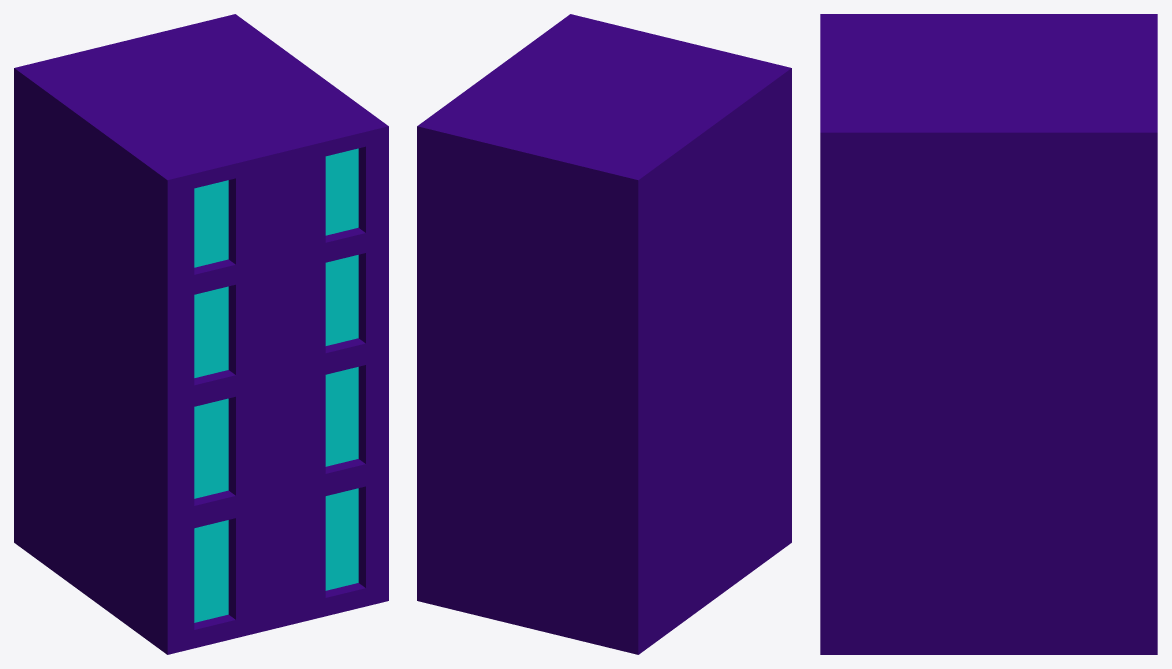
3 views of the same model, side by side, from view 1: azimuth 30°, elevation 25°; view 2: azimuth 150°, elevation 25°; view 3: azimuth 270°, elevation 25° (orthographic). The views are drawn at different scales.
Visible parts, largest first — view 1: B_7; view 2: B_7; view 3: B_7.
Part boxes in pixels (x1,y1,x2,y2): B_7: (14, 14, 388, 654); B_7: (417, 14, 791, 654); B_7: (820, 14, 1157, 654).
Bounding box in the file's own units: 250 × 512 × 300.
